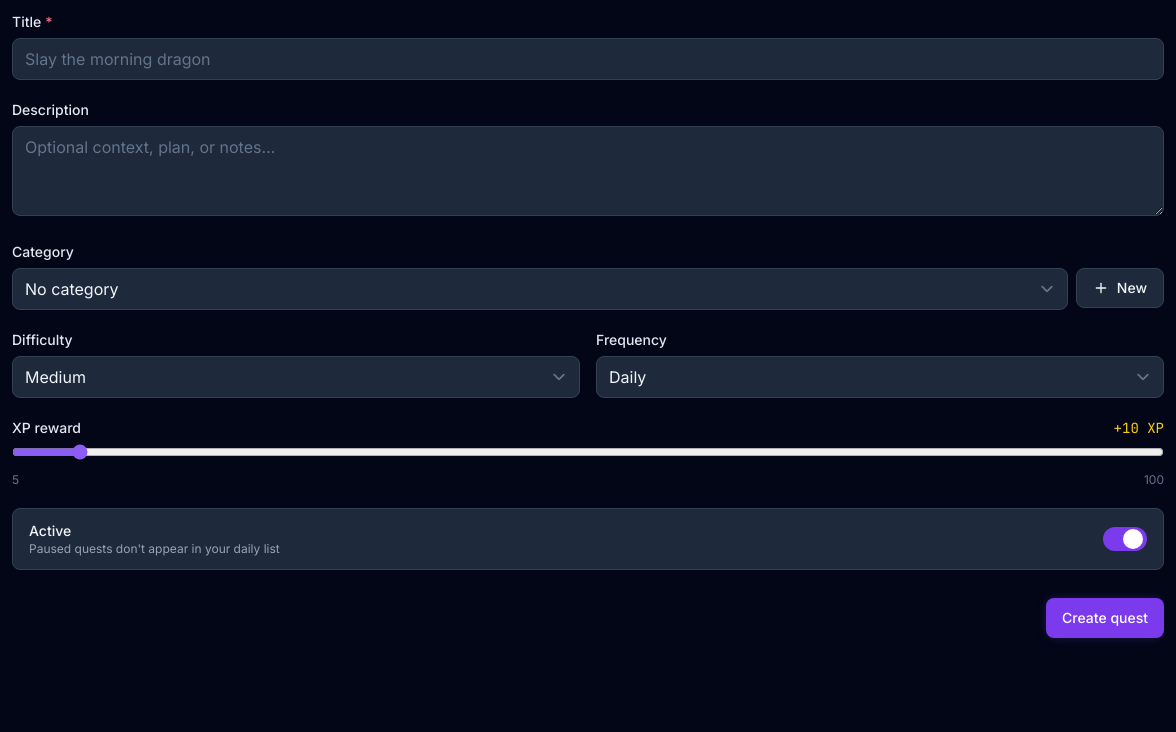
Test: QuestForm › shows "Title is required" validation error when title is empty on submit
Click the button "Create quest".
click(1105, 618)  # box [1046, 598, 1164, 638]
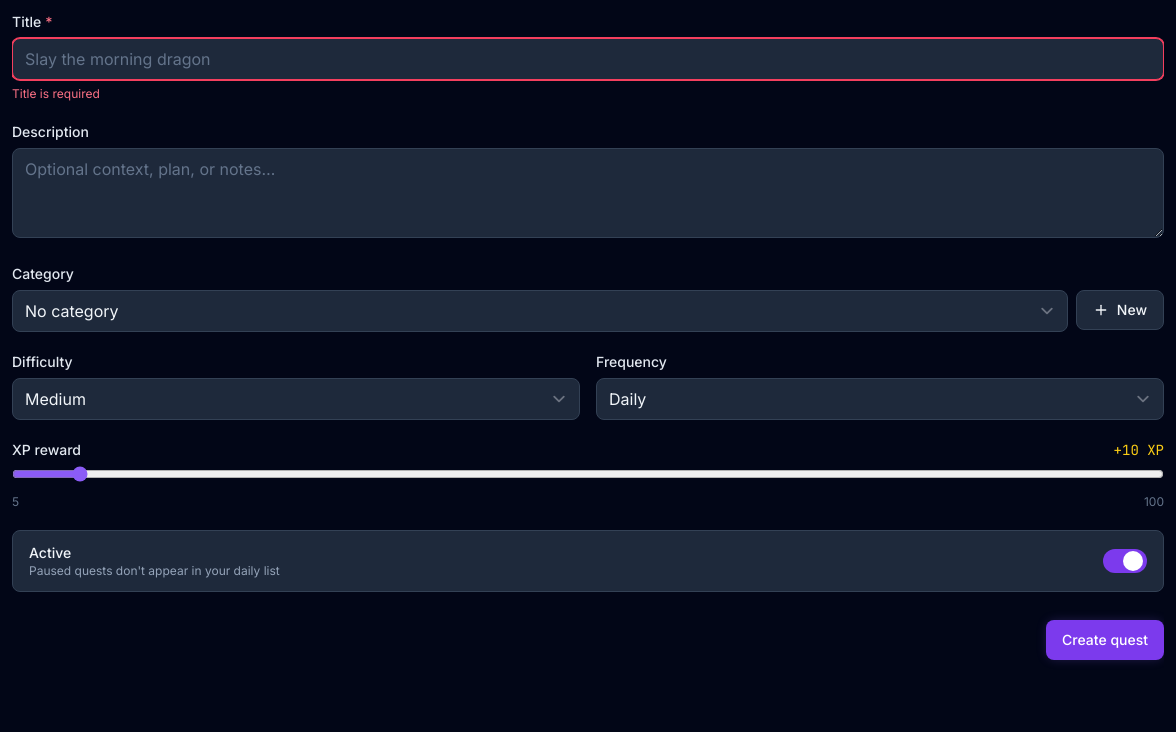
Result: the text "Title is required" is shown at [12, 86, 100, 101]
